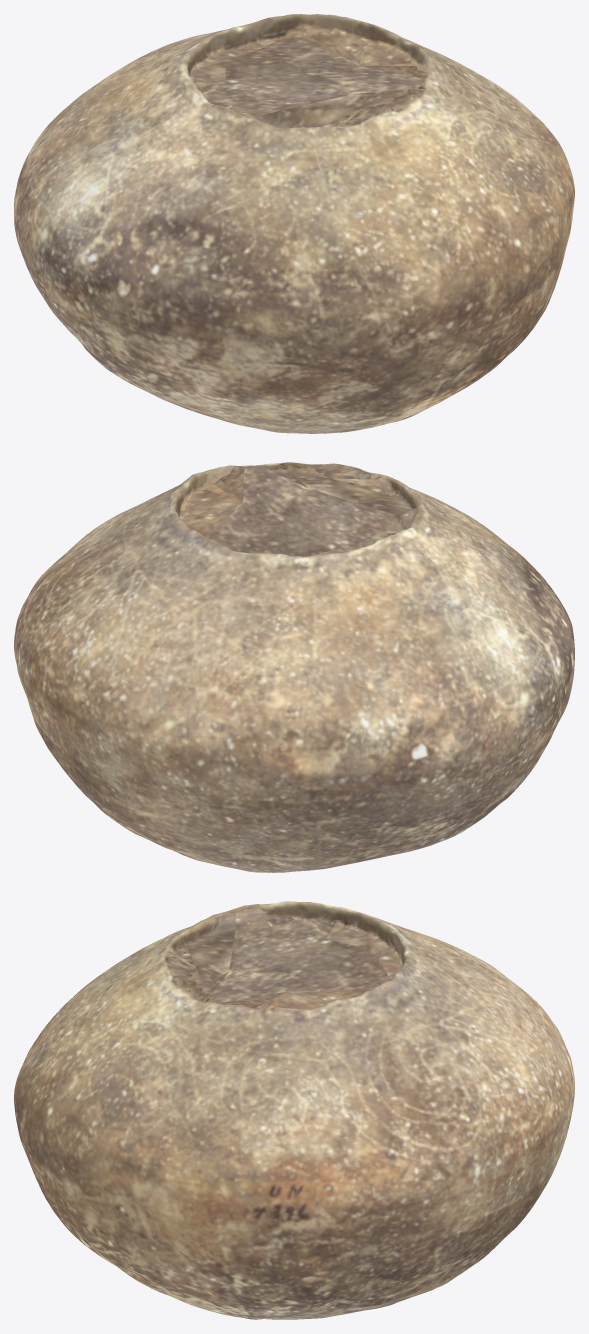
File: Ark_HM_714_HI.glb
3 renders of one model, top to bottom at view 1: azimuth 30°, elevation 25°; view 2: azimuth 150°, elevation 25°; view 3: azimuth 270°, elevation 25°, orthographic.
Size of the model in its own units: 0.4996 by 0.3297 by 0.4963.
1 material, 1 textured.
